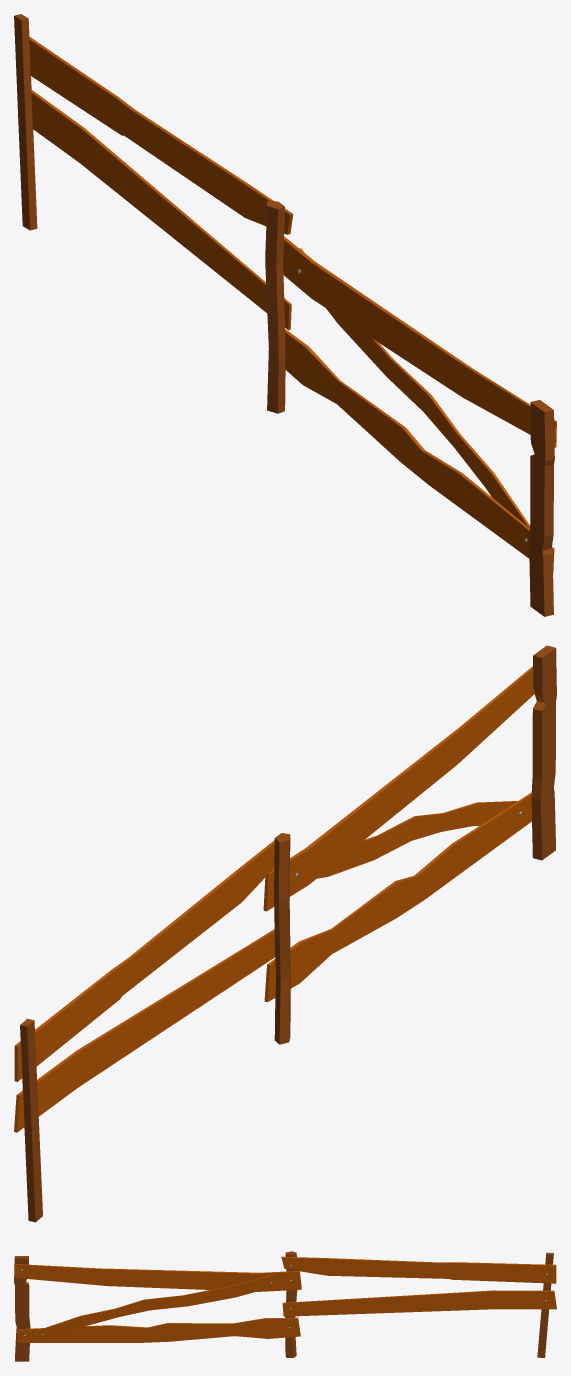
Rendered from Fence3.fbx.
3 views of the same model, one above another, from view 1: azimuth 30°, elevation 25°; view 2: azimuth 150°, elevation 25°; view 3: azimuth 270°, elevation 25° (orthographic). The views are drawn at different scales.
Visible parts, largest first — view 1: Fence3; view 2: Fence3; view 3: Fence3.
Part boxes in pixels (x1=…): Fence3: x1=14, y1=14, x2=556, y2=616; Fence3: x1=14, y1=645, x2=556, y2=1222; Fence3: x1=14, y1=1251, x2=556, y2=1361.
Bounding box in the file's own units: 53.1 × 528 × 2424.
